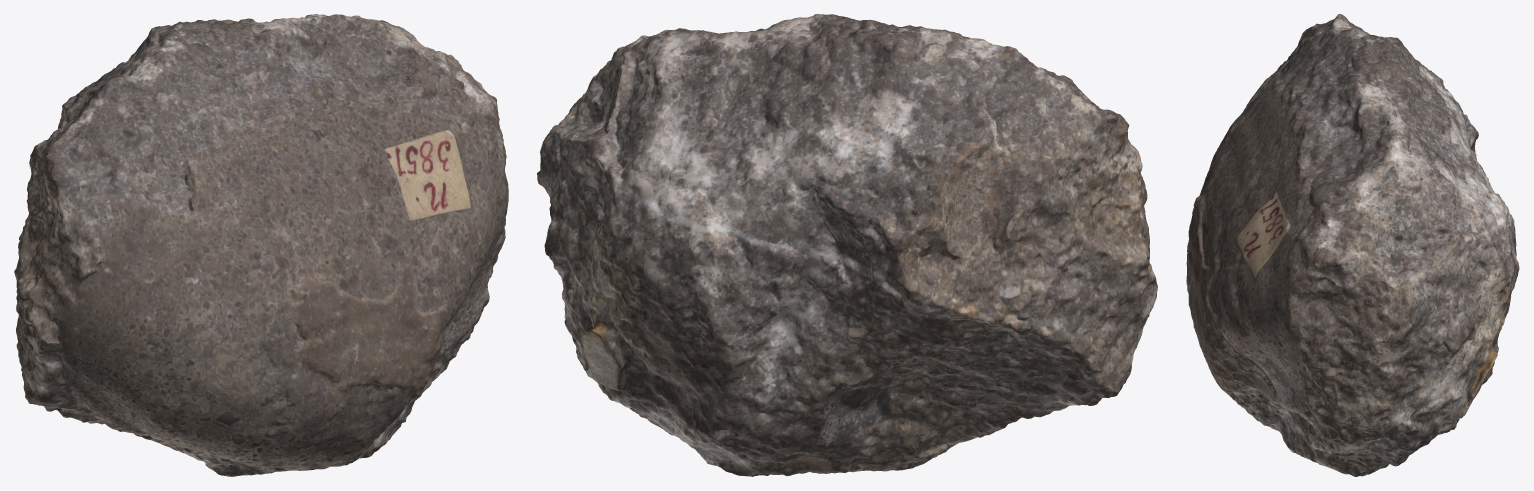
Rendered from EWS0004007.glb.
The picture shows the model from 3 angles, left to right: view 1: azimuth 30°, elevation 25°; view 2: azimuth 150°, elevation 25°; view 3: azimuth 270°, elevation 25°; orthographic projection. The views are drawn at different scales.
Parts seen in each view (by area): view 1: input; view 2: input; view 3: input.
Boxes of the visible parts, x1=… form: input: x1=14, y1=14, x2=508, y2=476; input: x1=537, y1=14, x2=1157, y2=476; input: x1=1186, y1=14, x2=1519, y2=476.
Bounding box in the file's own units: 0.0598 × 0.0491 × 0.0402.
Materials: 1 (1 with a texture image).
